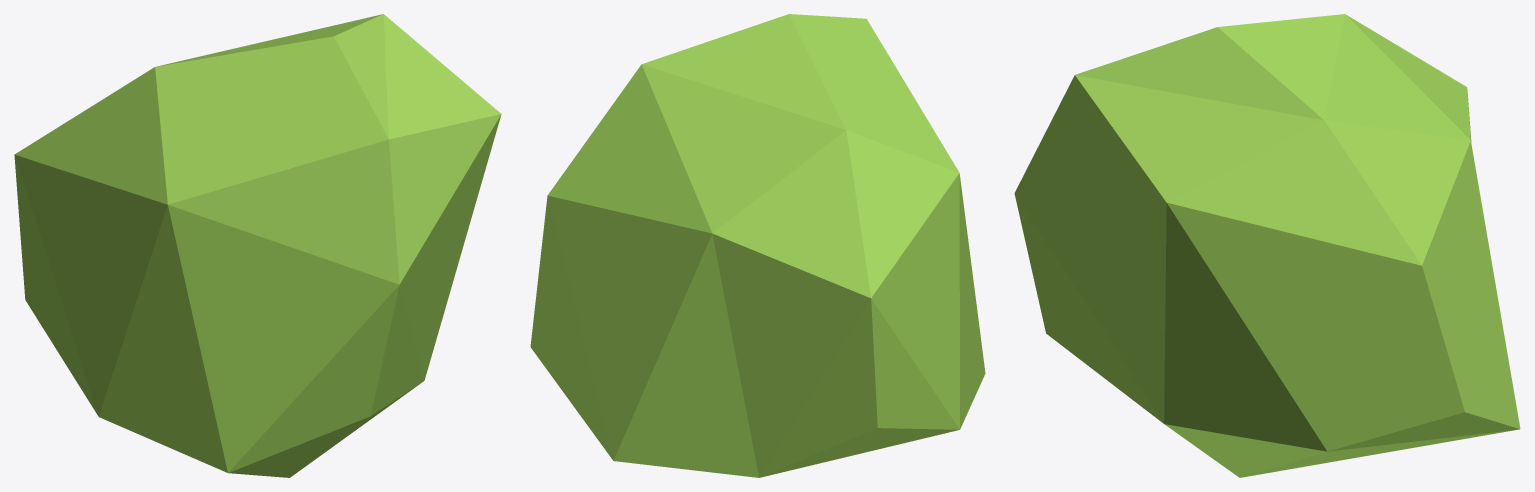
File: Yucca1_leaves.fbx
3 views of the same model, side by side, from view 1: azimuth 30°, elevation 25°; view 2: azimuth 150°, elevation 25°; view 3: azimuth 270°, elevation 25° (orthographic). The views are drawn at different scales.
Visible parts, largest first — view 1: GeoSphere2; view 2: GeoSphere2; view 3: GeoSphere2.
Boxes of the visible parts, bbox=[...] form: GeoSphere2: bbox=[14, 14, 501, 477]; GeoSphere2: bbox=[530, 14, 985, 477]; GeoSphere2: bbox=[1014, 14, 1520, 477].
Bounding box in the file's own units: 60.6 × 71.91 × 70.43.
